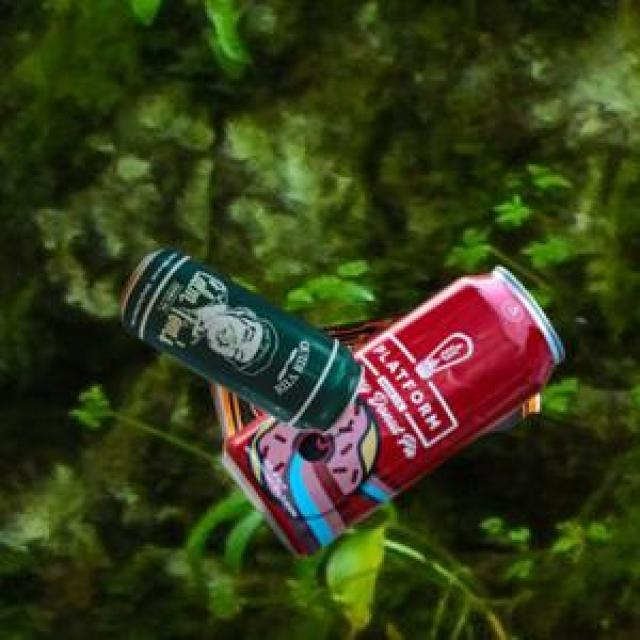Can: (219, 263, 560, 554), (118, 244, 362, 432), (209, 310, 410, 438)
